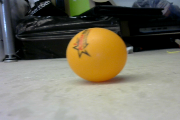PingPongBall: (67, 28, 127, 80)
